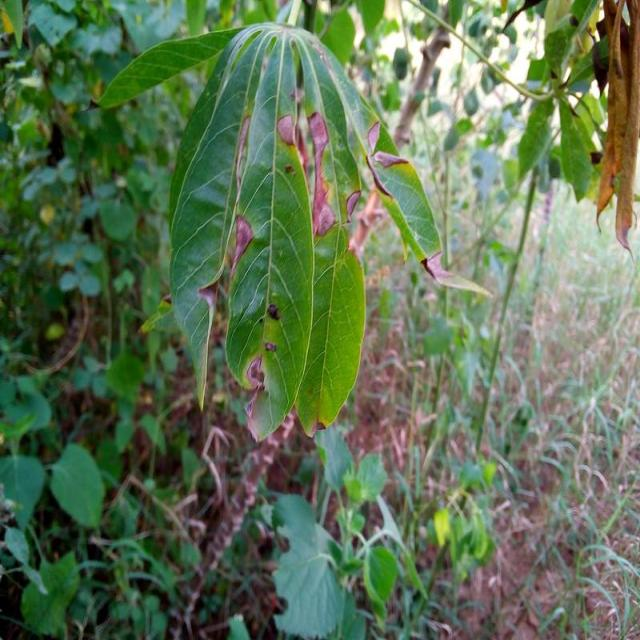cassava leaf: (164, 20, 441, 442)
